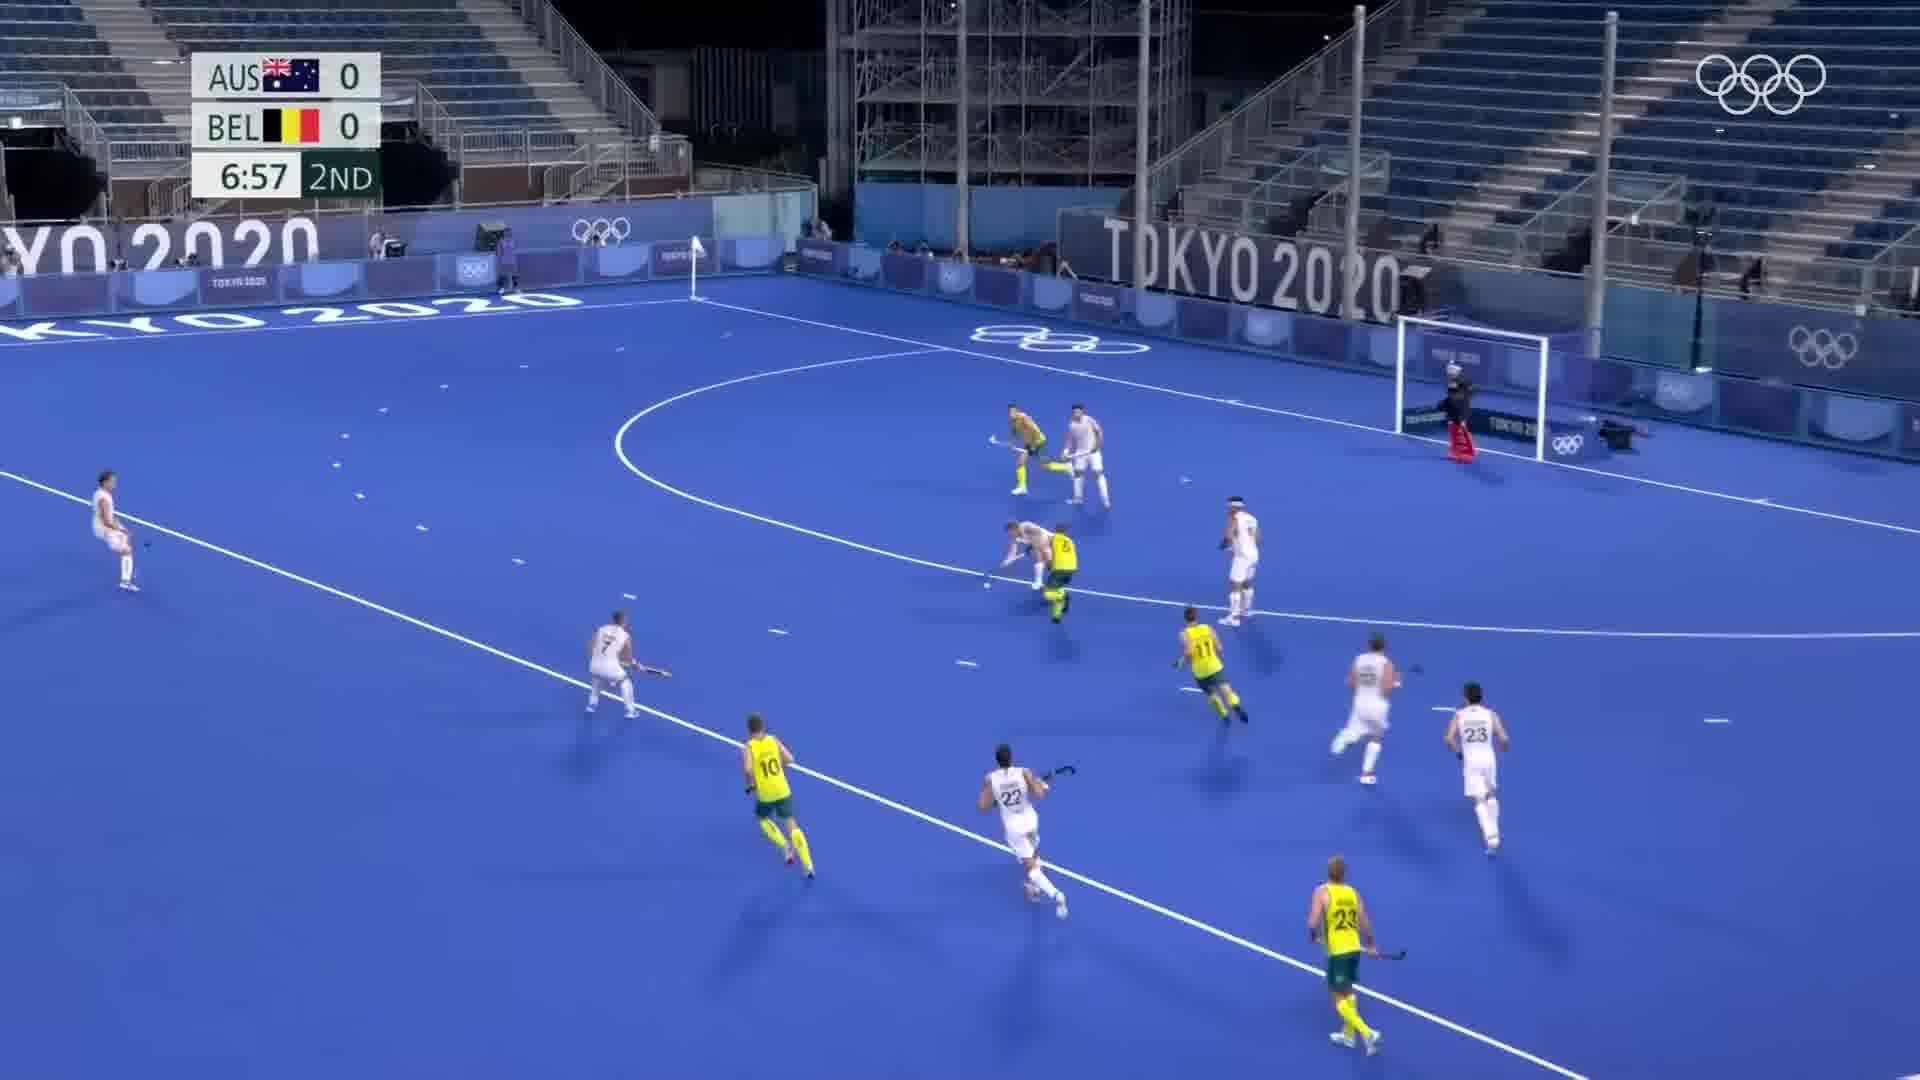ball: (978, 579, 994, 592)
